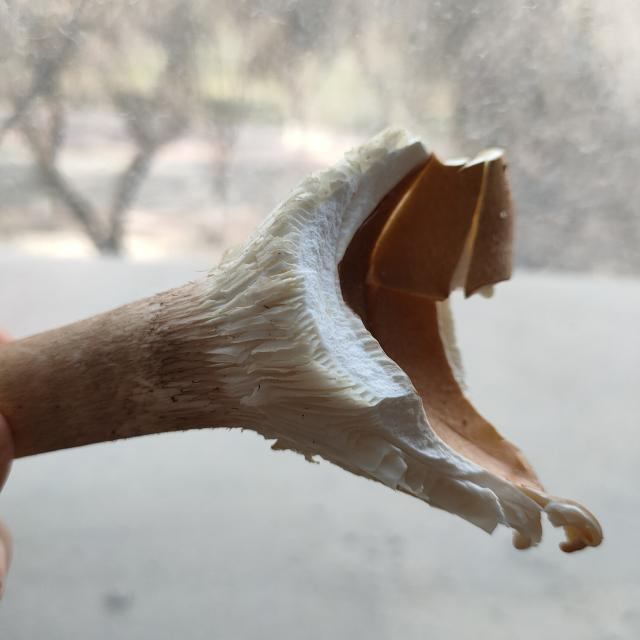Clitocybe maxima: (0, 126, 604, 552)
